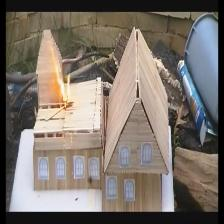fire: (51, 49, 70, 101)
